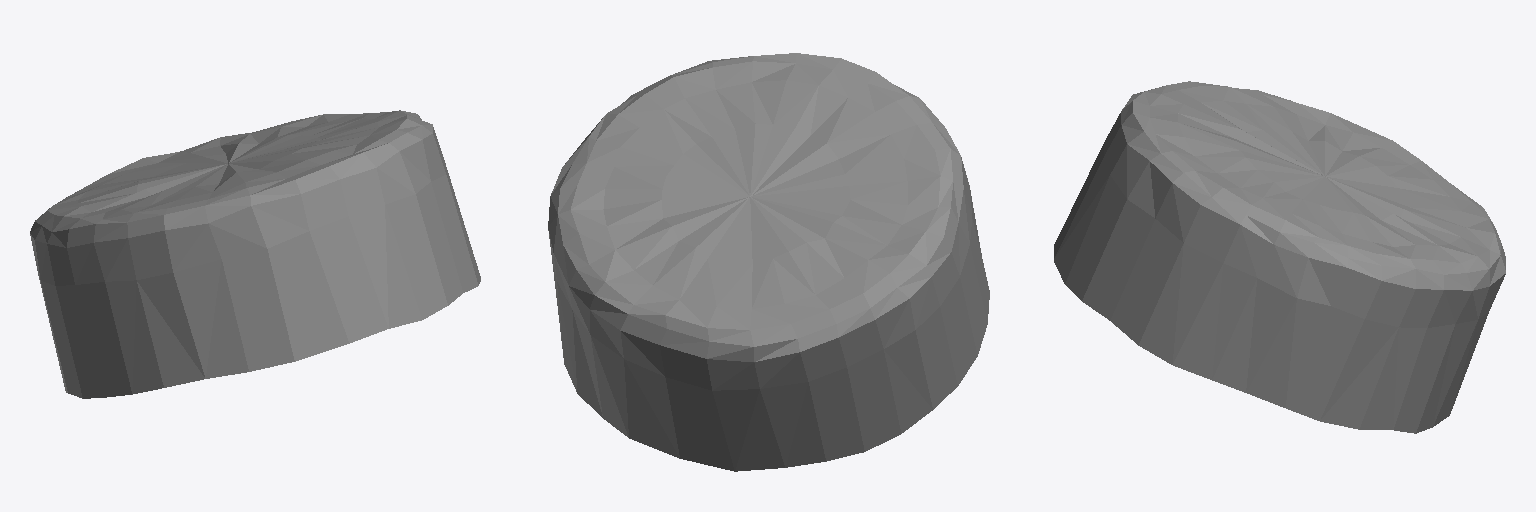
The model's file is right_app_button.obj.
3 renders of one model, left to right at view 1: azimuth 30°, elevation 25°; view 2: azimuth 150°, elevation 25°; view 3: azimuth 270°, elevation 25°, orthographic.
Parts seen in each view (by area): view 1: right_app_button Mesh; view 2: right_app_button Mesh; view 3: right_app_button Mesh.
Part boxes in pixels (x1,y1,x2,y2): right_app_button Mesh: (30, 110, 480, 398); right_app_button Mesh: (548, 53, 989, 471); right_app_button Mesh: (1054, 81, 1505, 433).
Size of the model in its own units: 0.0076 by 0.0056 by 0.008.